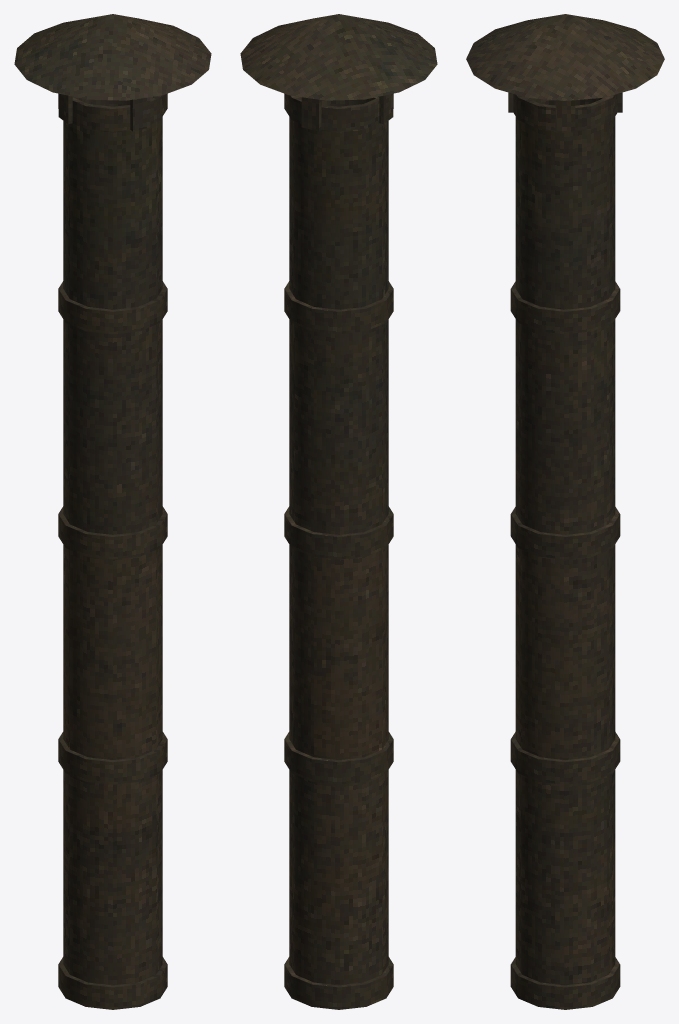
File: chimney_a_4_1.glb
3 views of the same model, side by side, from view 1: azimuth 30°, elevation 25°; view 2: azimuth 150°, elevation 25°; view 3: azimuth 270°, elevation 25° (orthographic).
Visible parts, largest first — view 1: chimney_a_4_1; view 2: chimney_a_4_1; view 3: chimney_a_4_1.
Boxes of the visible parts, bbox=[...] form: chimney_a_4_1: bbox=[14, 14, 211, 1009]; chimney_a_4_1: bbox=[240, 14, 437, 1009]; chimney_a_4_1: bbox=[466, 14, 664, 1009].
Bounding box in the file's own units: 0.4 × 2.16 × 0.4.
1 material, 1 textured.
